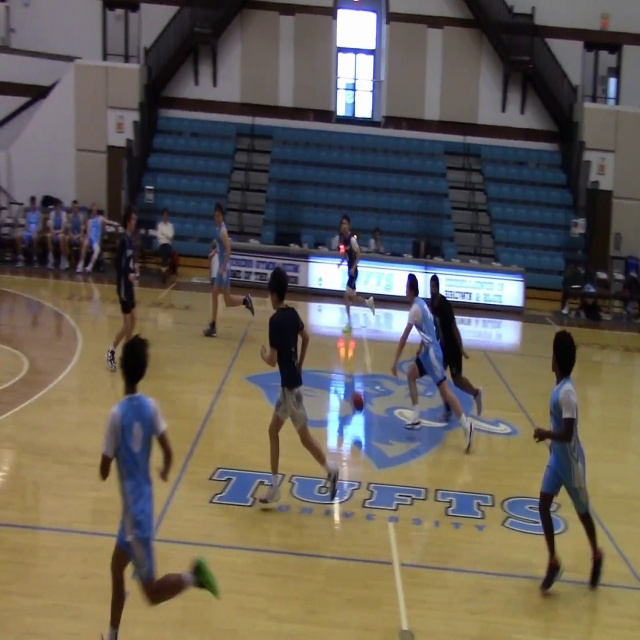Basketball: (351, 392, 363, 411)
